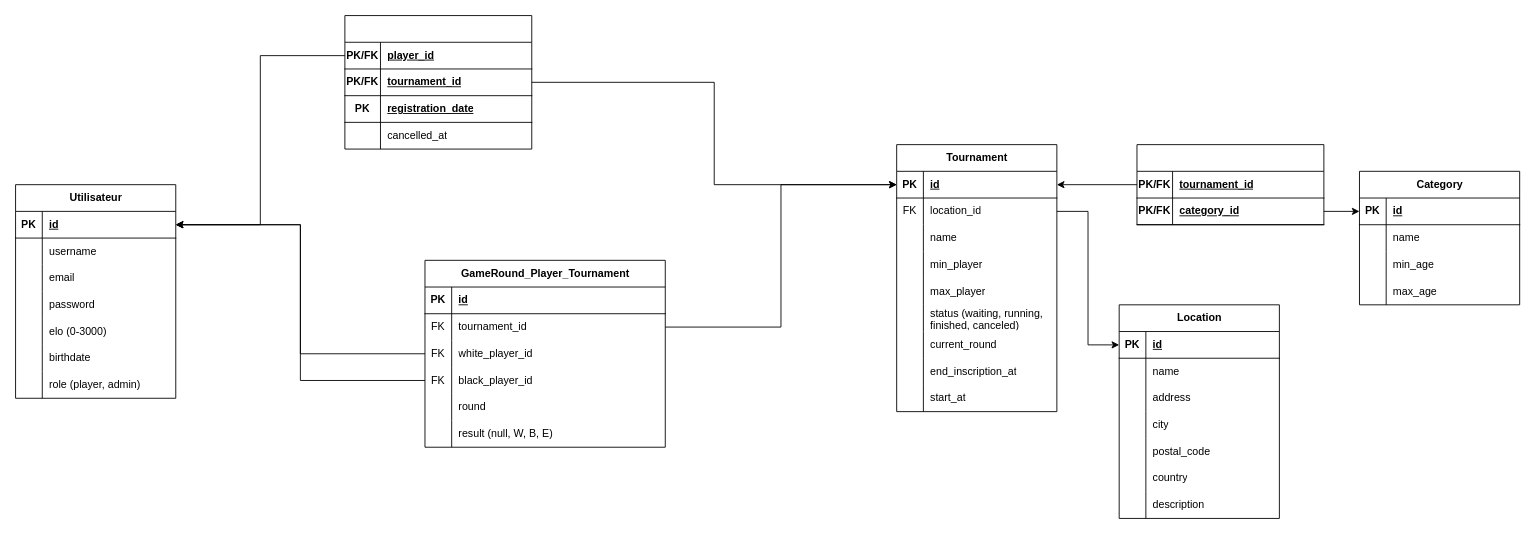
Image size: 1535x534. Some labels were removed from this diagram. Here are the shapes that lost their labels. From the top down, the box of each, then its label:
(344, 15, 532, 149): Inscription_Player_Tournament
(1136, 144, 1324, 225): MM_Tournament_category
